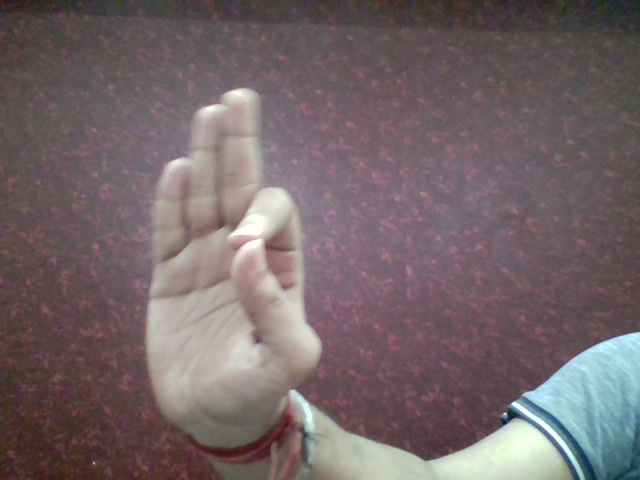f: (130, 77, 329, 434)
